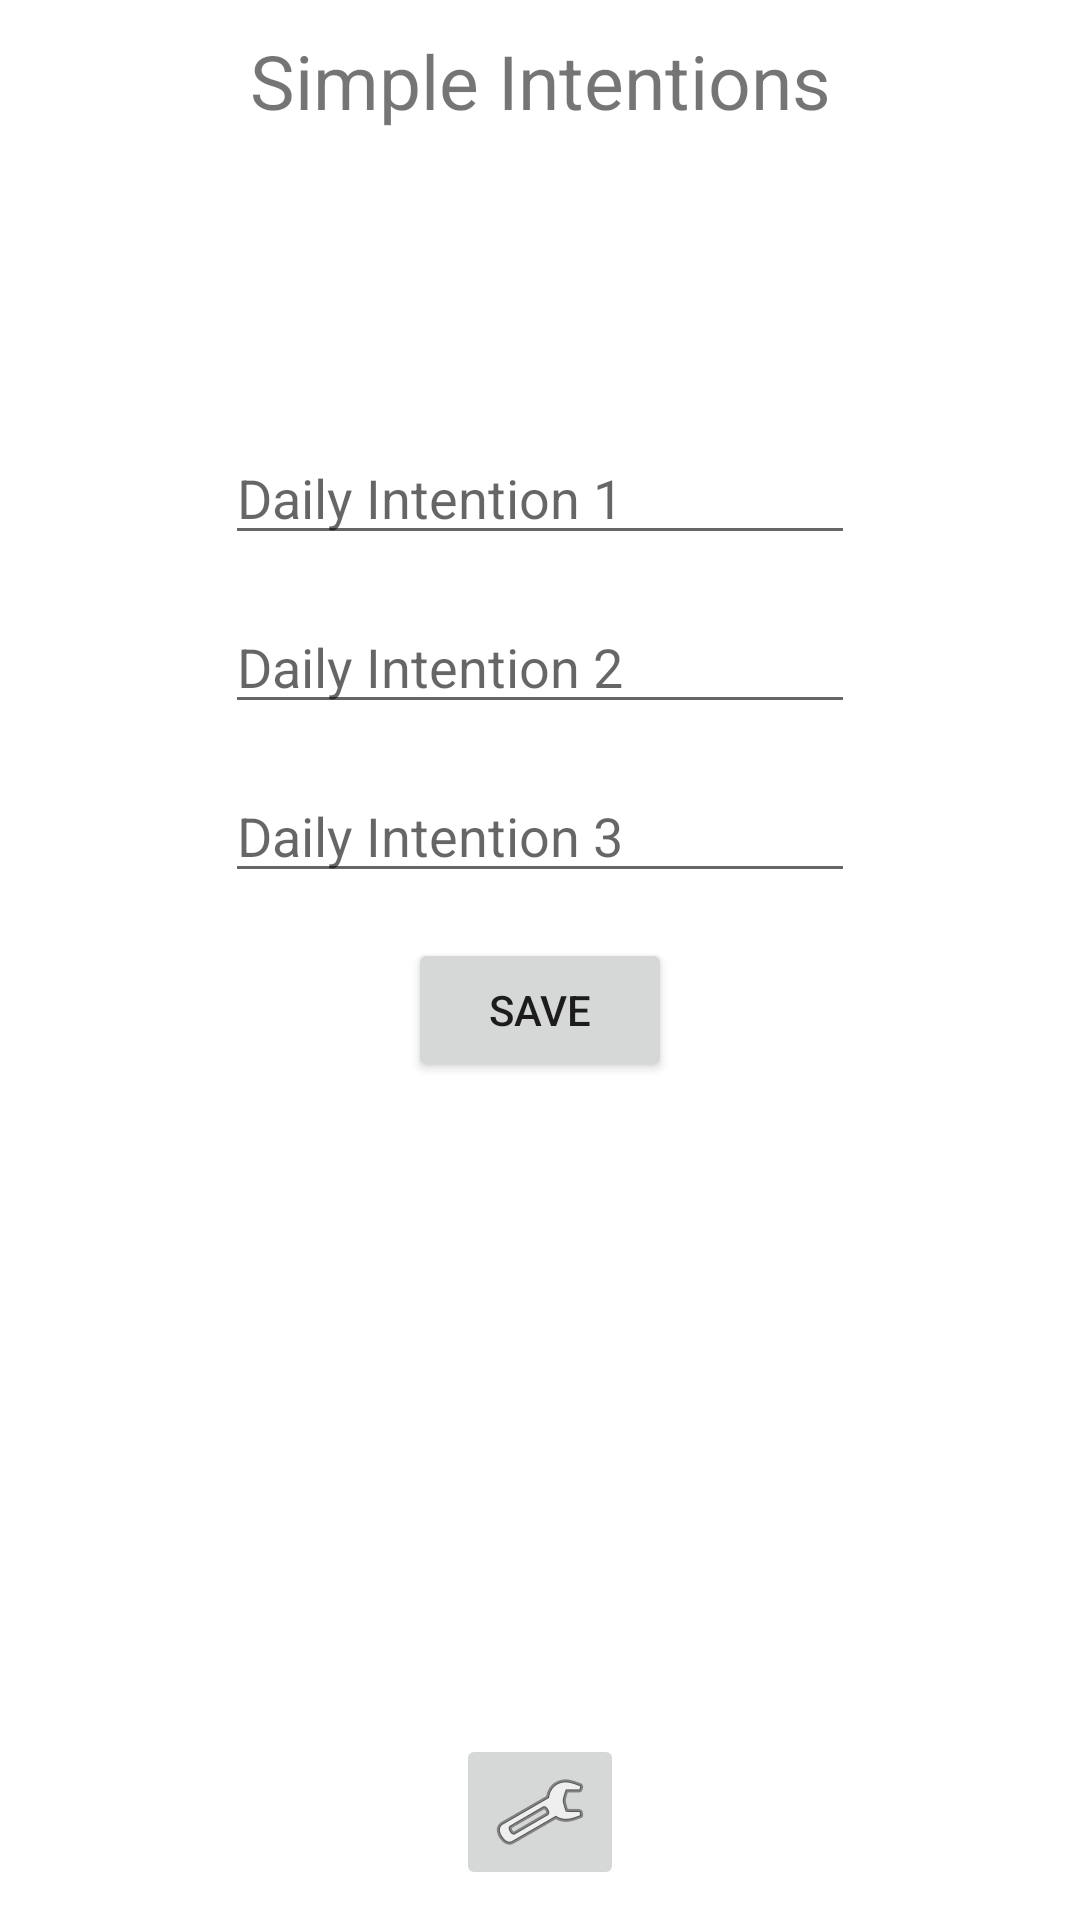

Icons on this 1080x1920 Android screen, each with the point to tap as point (x, y):
preferences: point (540, 1812)
